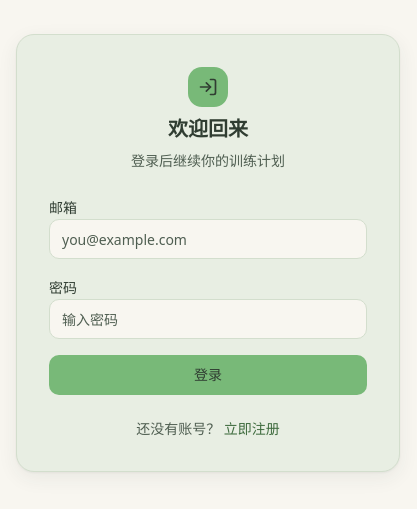
Test case: LoginPage › shows a Chinese error message for wrong credentials (no enumeration)
The width and height of the screenshot is (417, 509).
Type "a@b.com" into the field labelled "邮箱".
click(208, 239); type("a@b.com")  # box [49,219,367,259]
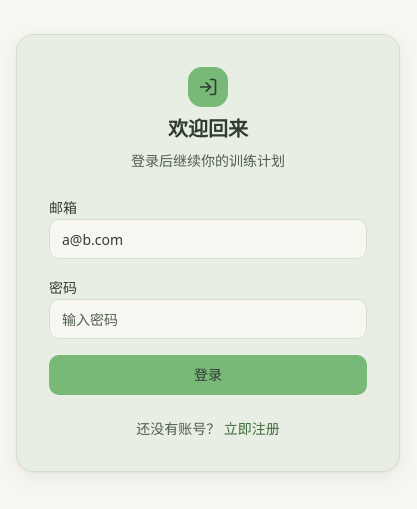
Type "wrongpassword" into the password field labelled "密码".
click(208, 319); type("wrongpassword")  # box [49,299,367,339]
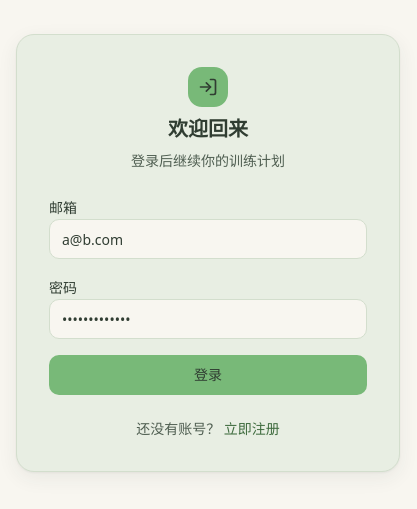
Click the button "登录".
click(208, 375)  # box [49,355,367,395]
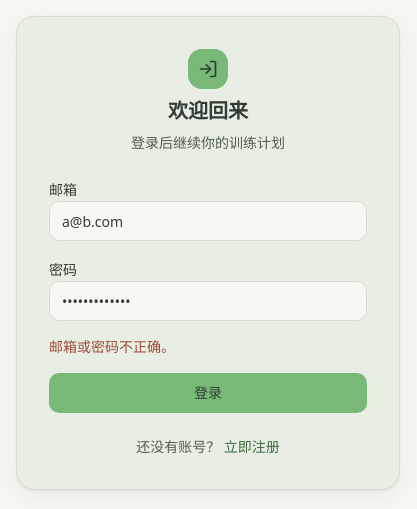
Result: the message shows "邮箱或密码不正确" at [49,337,175,356]
